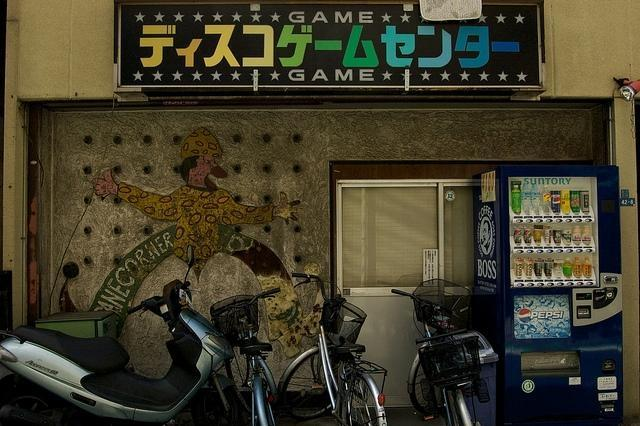bicycle: (277, 269, 391, 421), (387, 275, 492, 421), (210, 289, 288, 426)
motorcycle: (2, 248, 246, 420)
